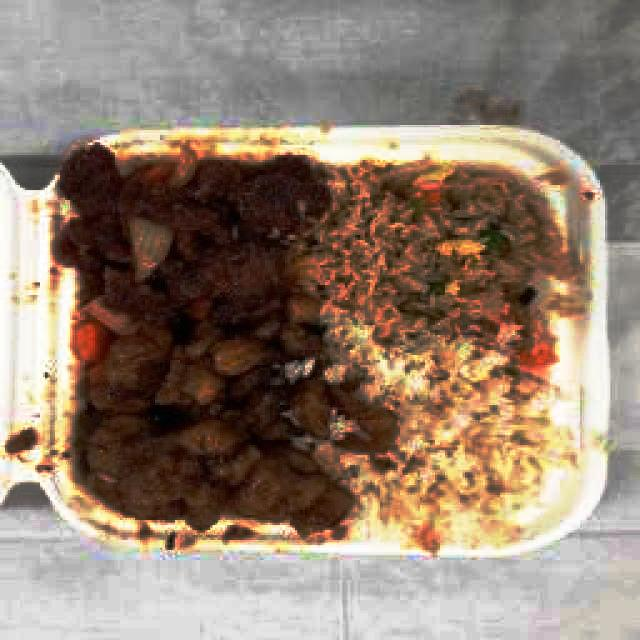Beijing Beef: (72, 148, 314, 331)
Fried Rice: (332, 168, 505, 327)
Kung Pao Chicken: (90, 342, 334, 515)
rice: (383, 350, 552, 507)
